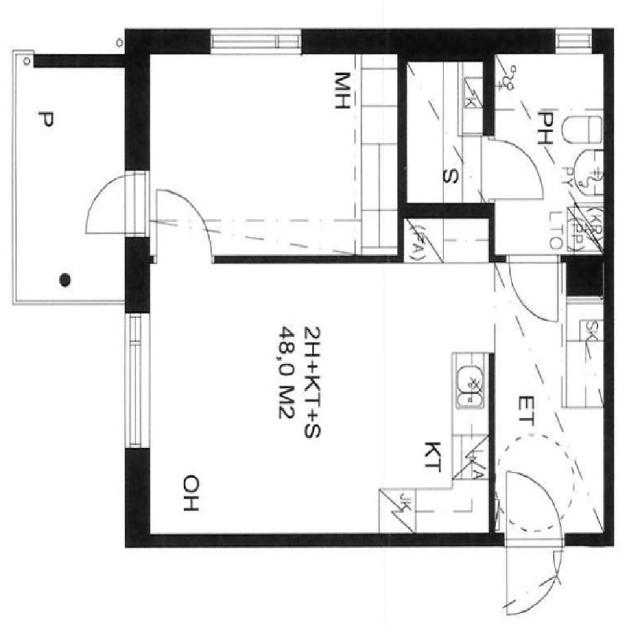door: (164, 260, 407, 542), (146, 181, 217, 254), (499, 246, 565, 324), (478, 132, 546, 206), (78, 165, 142, 242)
window: (112, 302, 159, 460), (200, 20, 313, 60), (545, 21, 599, 57)
zone: (144, 48, 396, 260), (8, 59, 134, 294), (489, 40, 608, 253), (402, 54, 490, 208), (495, 460, 568, 620), (477, 100, 560, 217)
